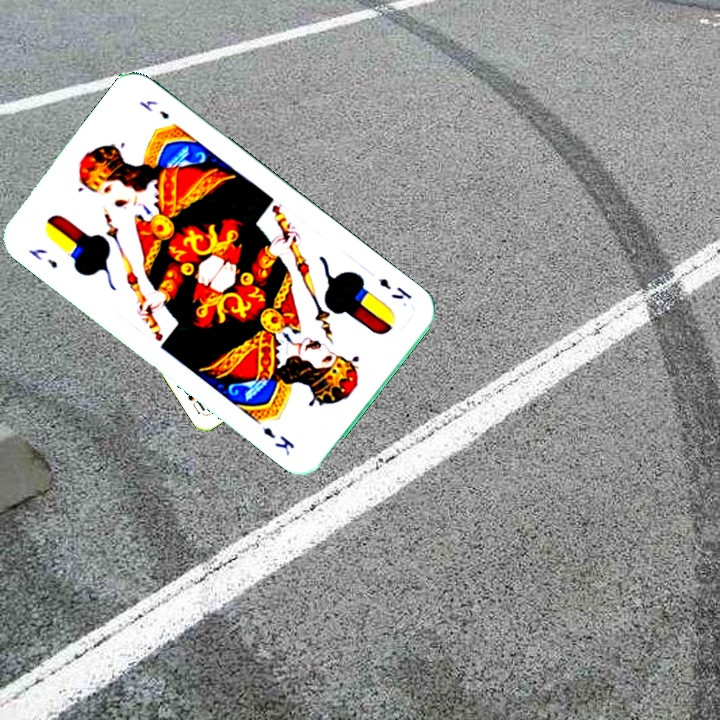EK: (375, 274, 414, 302), (25, 244, 60, 272)
